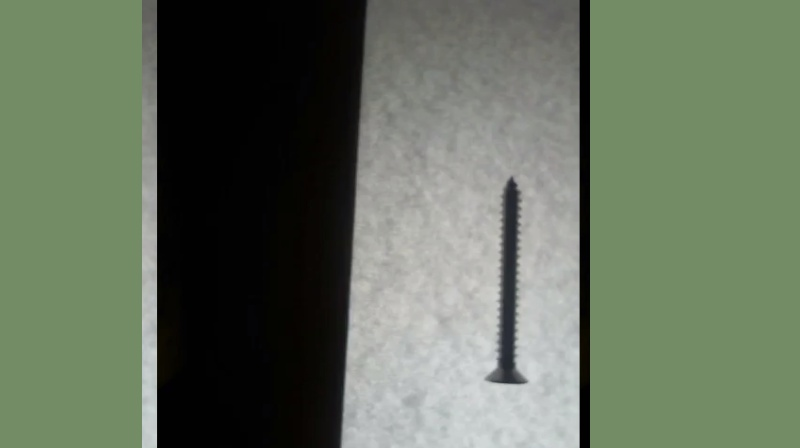S002: (481, 173, 535, 388)
